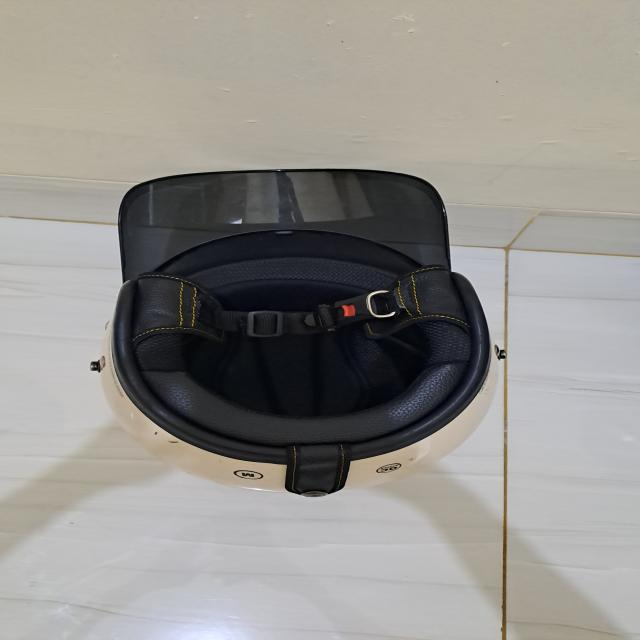Helm: (86, 161, 512, 498)
